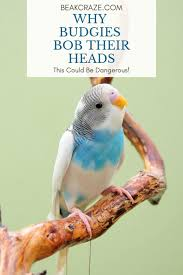budgie: (48, 84, 135, 275)
